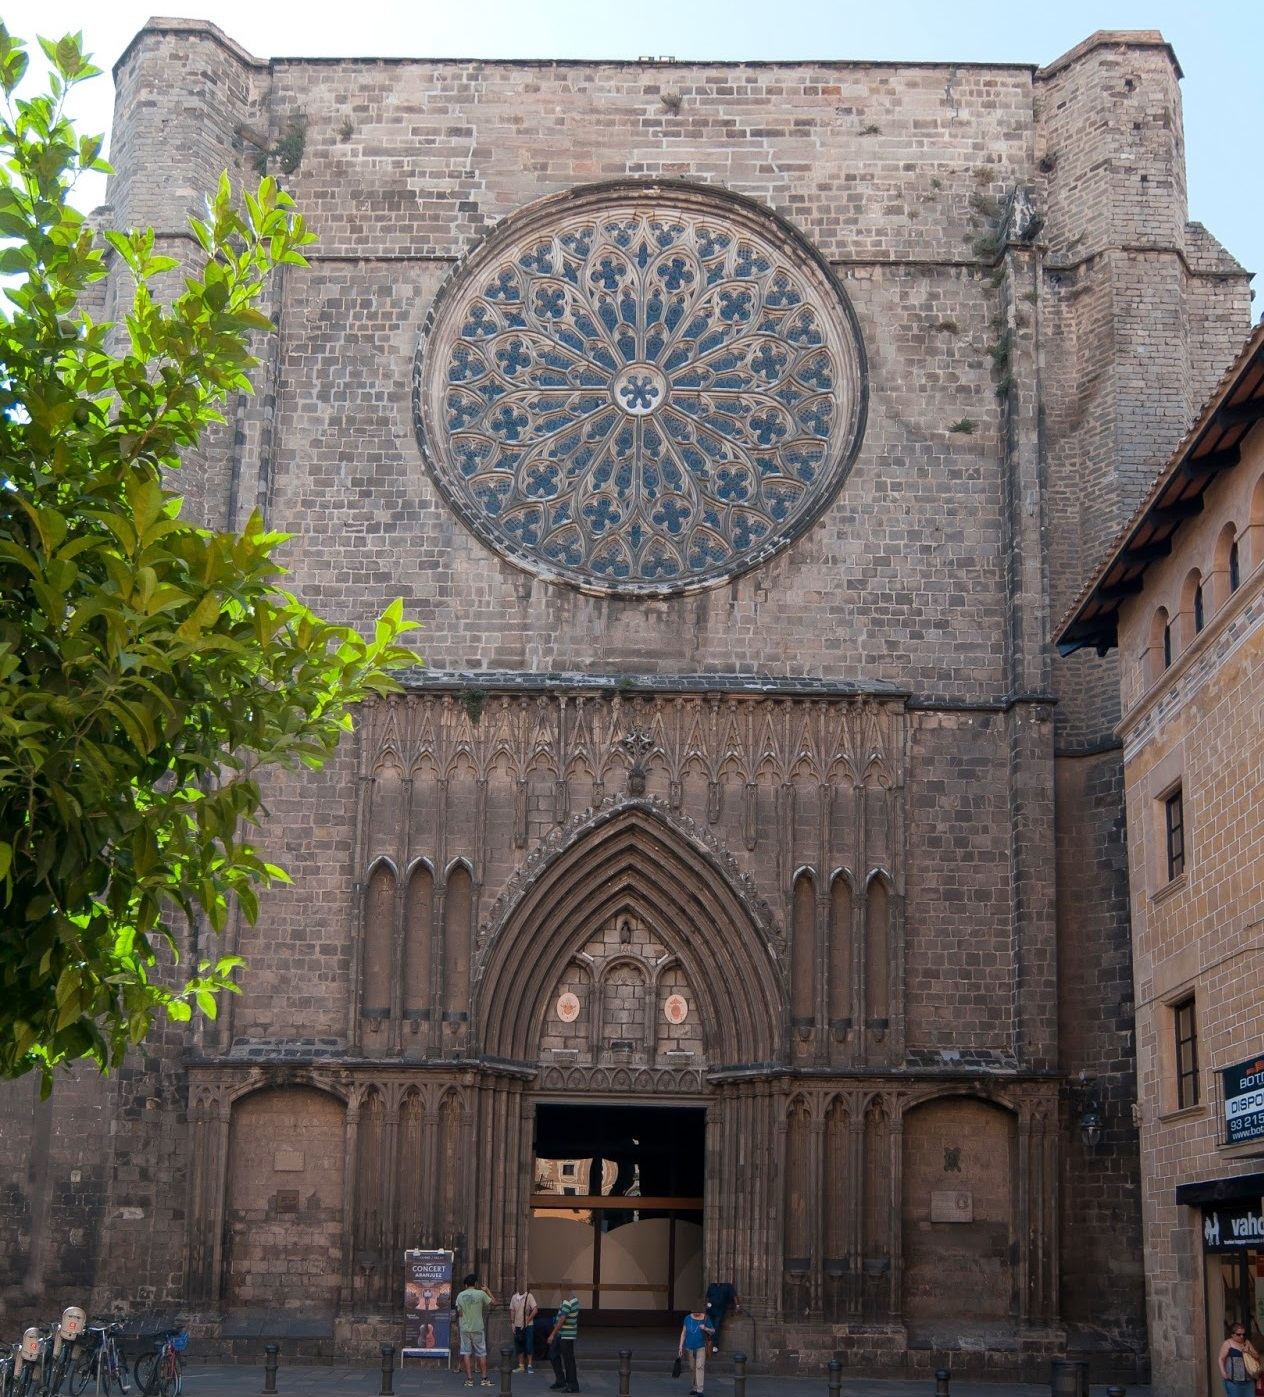arco-apuntado: (470, 792, 790, 1068)
